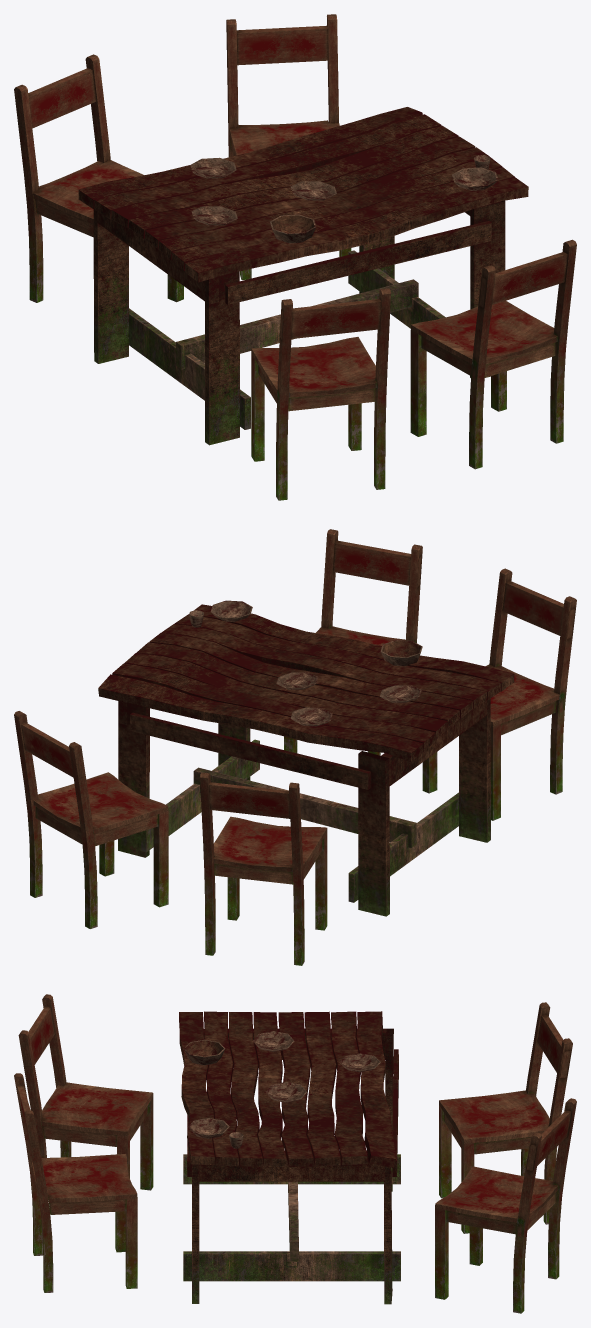
The model's file is table_scene.glb.
3 views of the same model, one above another, from view 1: azimuth 30°, elevation 25°; view 2: azimuth 150°, elevation 25°; view 3: azimuth 270°, elevation 25° (orthographic). The views are drawn at different scales.
Visible parts, largest first — view 1: table1, Chair3, Chair4, Chair1, Chair2, WoodenBowl3, WoodenBowl2, WoodenPlate1, WoodenPlate3, WoodenPlate2; view 2: table1, Chair2, Chair1, Chair4, Chair3, WoodenBowl3, WoodenBowl2, WoodenPlate1, WoodenPlate3, WoodenPlate2; view 3: table1, Chair2, Chair4, Chair1, Chair3, WoodenBowl3, WoodenPlate2, WoodenPlate3, WoodenBowl2, WoodenPlate1.
Part boxes in pixels (box(x1,y1,x2,y2)): table1: box(78, 107, 528, 445); Chair3: box(410, 239, 576, 469); Chair4: box(251, 288, 390, 500); Chair1: box(14, 54, 183, 302); Chair2: box(226, 14, 351, 279); WoodenBowl3: box(270, 214, 316, 243); WoodenBowl2: box(452, 167, 498, 190); WoodenPlate1: box(190, 157, 236, 178); WoodenPlate3: box(191, 206, 237, 225); WoodenPlate2: box(290, 181, 336, 200); table1: box(98, 604, 514, 916); Chair2: box(14, 711, 168, 928); Chair1: box(200, 772, 327, 965); Chair4: box(422, 568, 576, 820); Chair3: box(284, 529, 422, 755); WoodenBowl3: box(380, 640, 422, 666); WoodenBowl2: box(210, 600, 252, 621); WoodenPlate1: box(290, 707, 332, 726); WoodenPlate3: box(380, 685, 421, 702); WoodenPlate2: box(276, 672, 318, 689); table1: box(179, 1011, 400, 1304); Chair2: box(435, 1098, 576, 1313); Chair4: box(18, 994, 153, 1190); Chair1: box(439, 1002, 572, 1233); Chair3: box(14, 1073, 137, 1292); WoodenBowl3: box(183, 1039, 225, 1065); WoodenPlate2: box(265, 1082, 306, 1102); WoodenPlate3: box(253, 1031, 294, 1051); WoodenBowl2: box(188, 1118, 229, 1138); WoodenPlate1: box(339, 1053, 380, 1072).
Size of the model in its own units: 1.55 by 0.8794 by 2.49.
Materials: 6 (6 with a texture image).
